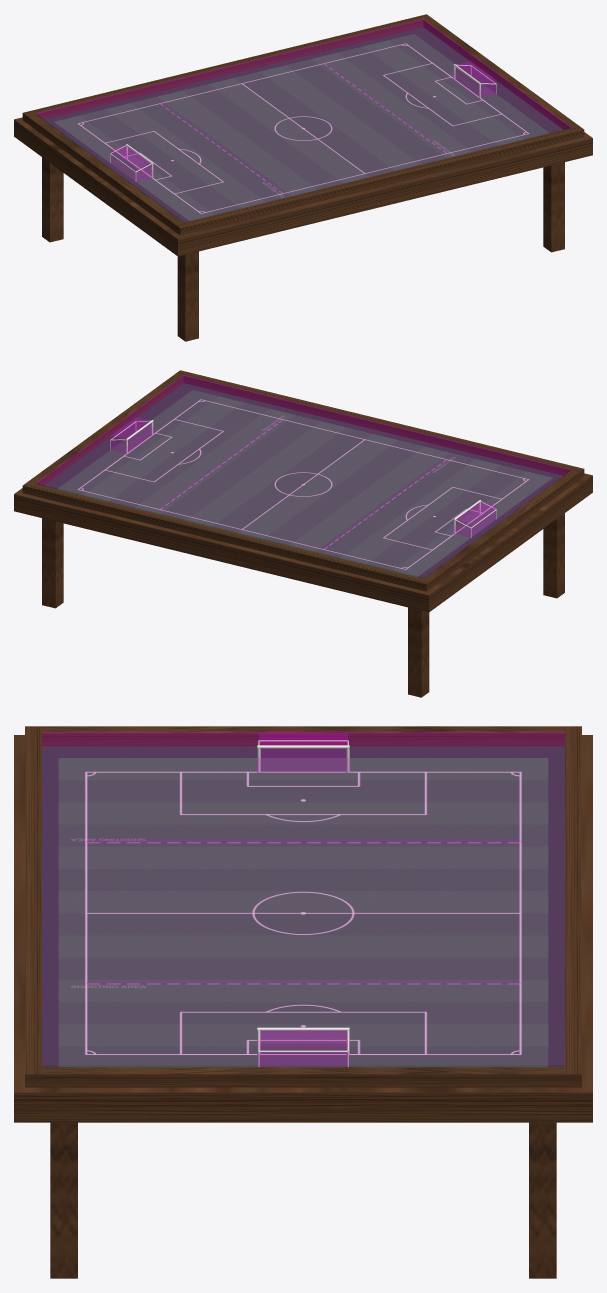
The model's file is field.glb.
3 views of the same model, one above another, from view 1: azimuth 30°, elevation 25°; view 2: azimuth 150°, elevation 25°; view 3: azimuth 270°, elevation 25° (orthographic). The views are drawn at different scales.
Parts seen in each view (by area): view 1: CoP_Walls, SM_Cloth, SM_Table_Top, SM_Table_Rail_N, SM_Table_Rail_S, SM_Cloth_Surround, SM_Table_Rail_W, SM_Table_Rail_E, SM_Table_Leg_4, SM_Table_Leg_3, SM_Table_Leg_1, CoP_Goal_L (+1 smaller); view 2: CoP_Walls, SM_Cloth, SM_Table_Top, SM_Table_Rail_S, SM_Table_Rail_N, SM_Cloth_Surround, SM_Table_Rail_W, SM_Table_Rail_E, SM_Table_Leg_2, SM_Table_Leg_1, SM_Table_Leg_3, CoP_Goal_L (+1 smaller); view 3: CoP_Walls, SM_Cloth, SM_Table_Top, SM_Cloth_Surround, SM_Table_Rail_E, SM_Table_Rail_W, SM_Table_Rail_N, SM_Table_Rail_S, SM_Table_Leg_2, SM_Table_Leg_4, CoP_Goal_R, CoP_Goal_L (+2 smaller).
Part boxes in pixels (x1,y1,x2,y2): CoP_Walls: (36, 19, 570, 222); SM_Cloth: (54, 34, 549, 220); SM_Table_Top: (14, 117, 592, 256); SM_Table_Rail_N: (175, 126, 584, 235); SM_Table_Rail_S: (22, 14, 430, 123); SM_Cloth_Surround: (43, 27, 563, 222); SM_Table_Rail_W: (27, 114, 183, 231); SM_Table_Rail_E: (423, 17, 579, 129); SM_Table_Leg_4: (543, 162, 564, 252); SM_Table_Leg_3: (177, 251, 198, 341); SM_Table_Leg_1: (42, 157, 63, 242); CoP_Goal_L: (111, 146, 150, 180); CoP_Walls: (36, 375, 570, 578); SM_Cloth: (57, 390, 552, 576); SM_Table_Top: (14, 473, 592, 612); SM_Table_Rail_S: (22, 482, 431, 591); SM_Table_Rail_N: (176, 370, 584, 479); SM_Cloth_Surround: (43, 383, 563, 578); SM_Table_Rail_W: (423, 470, 579, 587); SM_Table_Rail_E: (27, 373, 183, 485); SM_Table_Leg_2: (42, 518, 63, 608); SM_Table_Leg_1: (408, 607, 429, 697); SM_Table_Leg_3: (543, 513, 564, 598); CoP_Goal_L: (456, 502, 495, 536); CoP_Walls: (42, 731, 564, 1066); SM_Cloth: (58, 758, 548, 1067); SM_Table_Top: (14, 735, 592, 1122); SM_Cloth_Surround: (42, 746, 564, 1067); SM_Table_Rail_E: (42, 1067, 564, 1087); SM_Table_Rail_W: (42, 726, 564, 746); SM_Table_Rail_N: (25, 726, 41, 1087); SM_Table_Rail_S: (565, 726, 581, 1087); SM_Table_Leg_2: (529, 1122, 556, 1278); SM_Table_Leg_4: (50, 1122, 77, 1278); CoP_Goal_R: (259, 1030, 347, 1066); CoP_Goal_L: (259, 733, 347, 771).
Bounding box in the file's own units: 1.52 × 0.4532 × 1.04.
5 materials, 2 textured.
